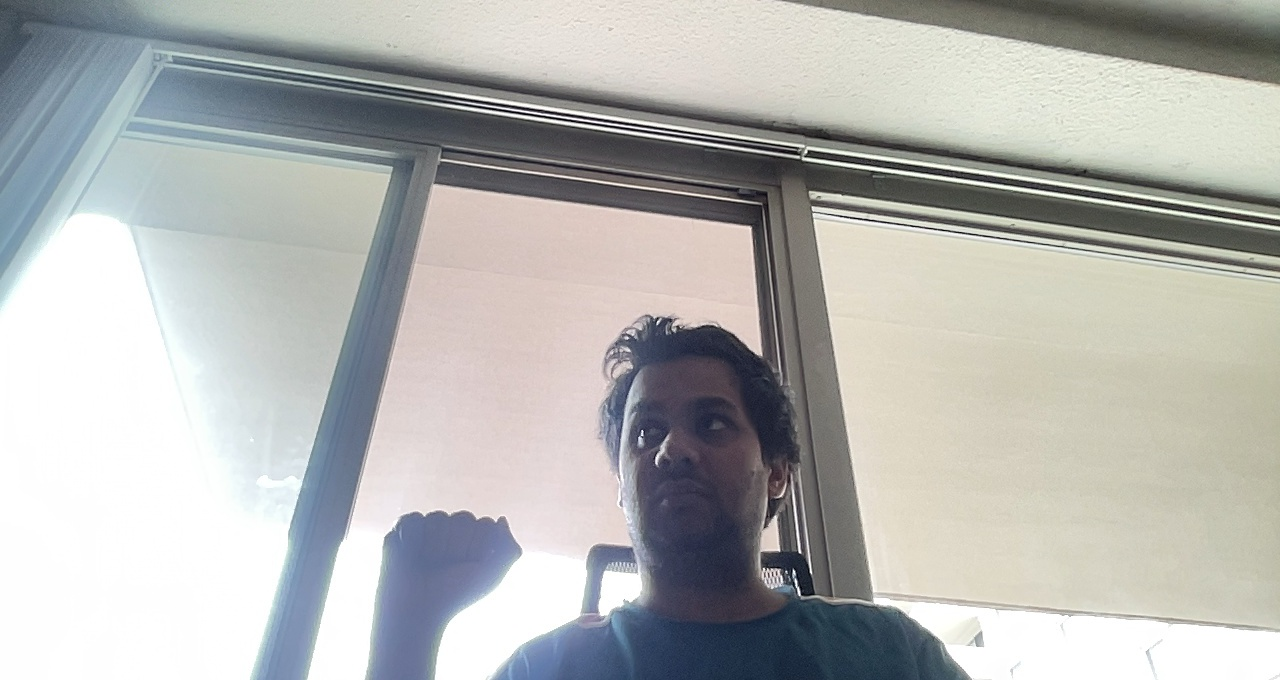closedfist: (376, 499, 527, 615)
